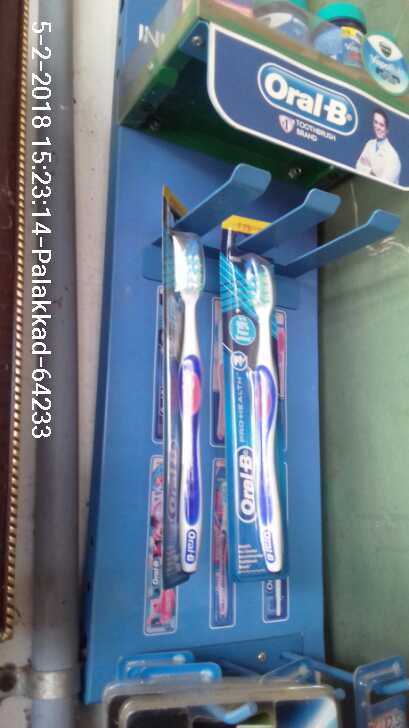oralb: (221, 236, 292, 580), (158, 214, 208, 582)
